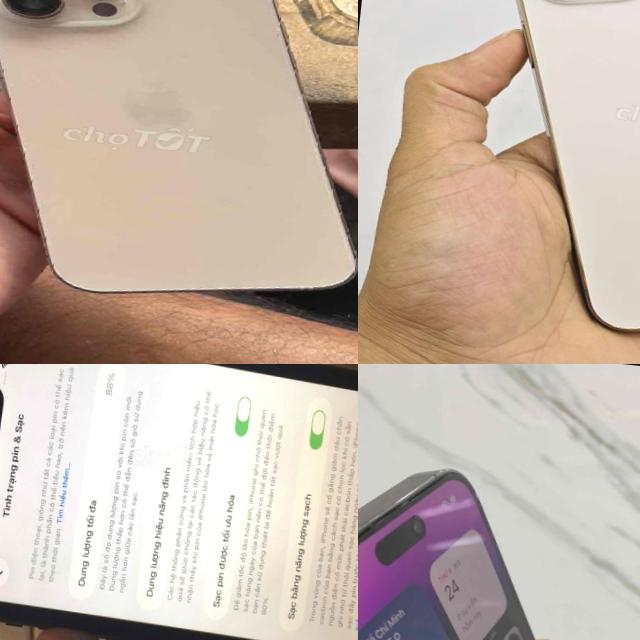gen_11: (0, 364, 358, 640)
gen_12_13: (515, 0, 640, 330)
gen_14: (358, 443, 640, 640)
gen_16: (0, 0, 358, 320)
